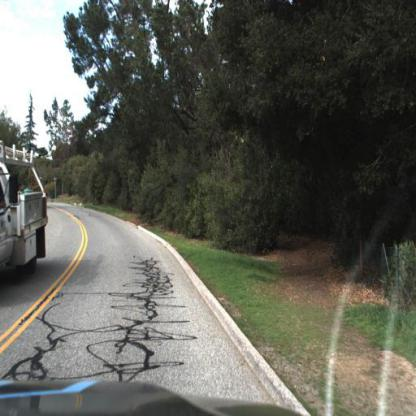truck: (2, 141, 50, 286)
